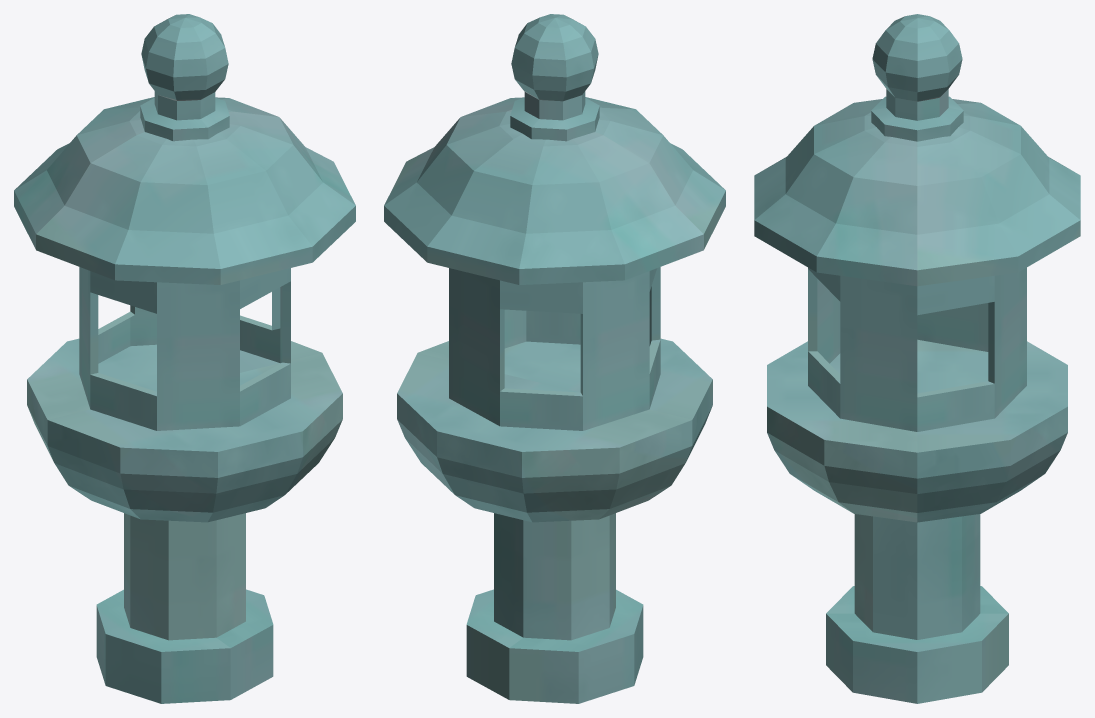
Rendered from SM_StoneLantern_06.fbx.
The picture shows the model from 3 angles, left to right: view 1: azimuth 30°, elevation 25°; view 2: azimuth 150°, elevation 25°; view 3: azimuth 270°, elevation 25°; orthographic projection.
Visible parts, largest first — view 1: SM_StoneLantern_06; view 2: SM_StoneLantern_06; view 3: SM_StoneLantern_06.
Part boxes in pixels (x1,y1,x2,y2): SM_StoneLantern_06: (14,14,355,703); SM_StoneLantern_06: (384,14,725,703); SM_StoneLantern_06: (754,14,1080,703).
Bounding box in the file's own units: 71.81 × 150 × 68.3.
